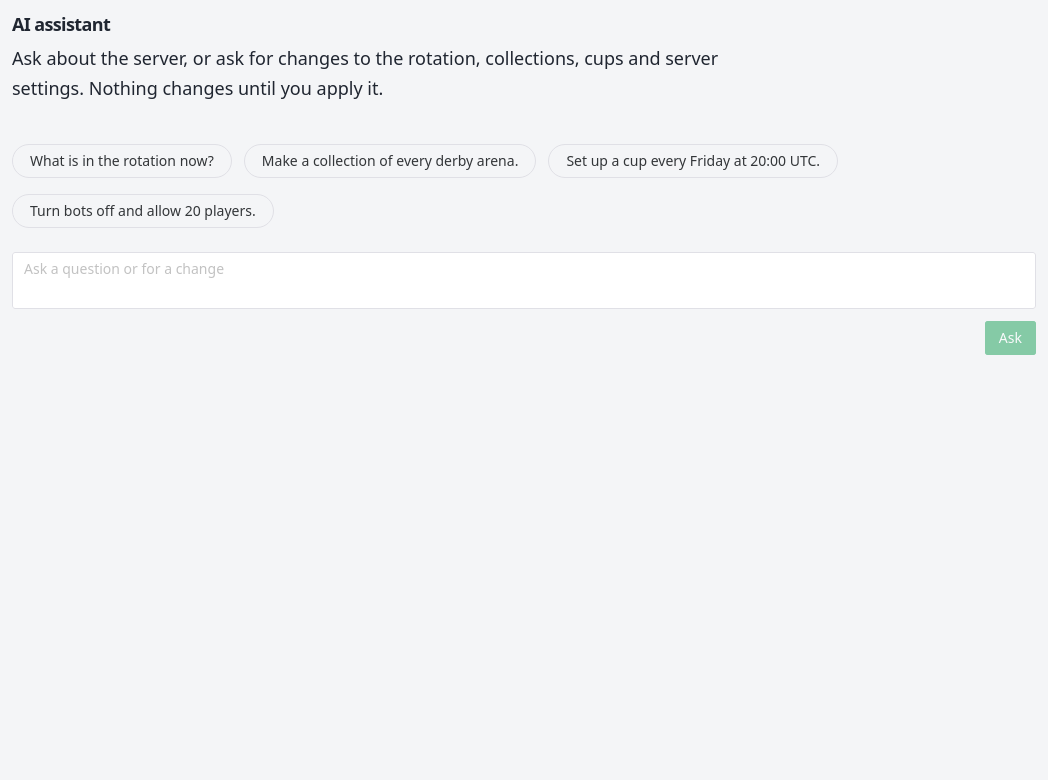
Test: AdminAssistantView › shows a proposal, and changes nothing until it is applied
Type "Ovals only, please." into the text box named "Your question" at (524, 281), box [24,252,1024,310]
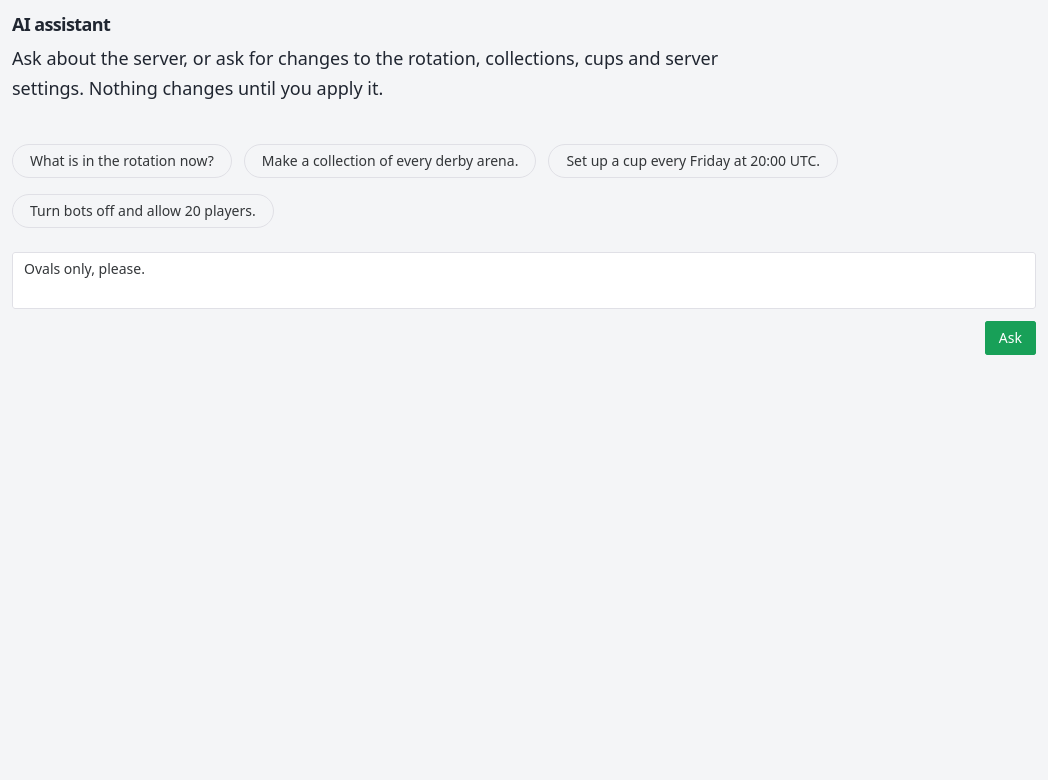
Submit the form, box [12,252,1036,356]
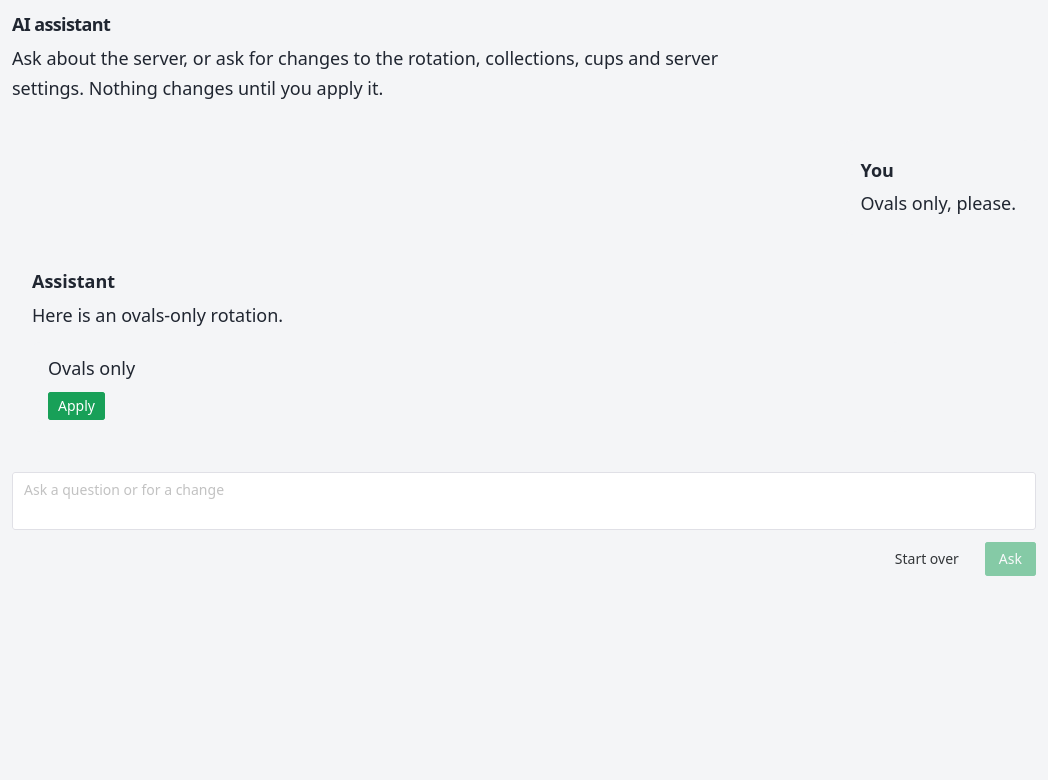
Expected: the list named "Proposed changes" shows "Ovals only", [48,356,135,380]
Click the button "Apply" at (76, 406), box [48,392,105,420]
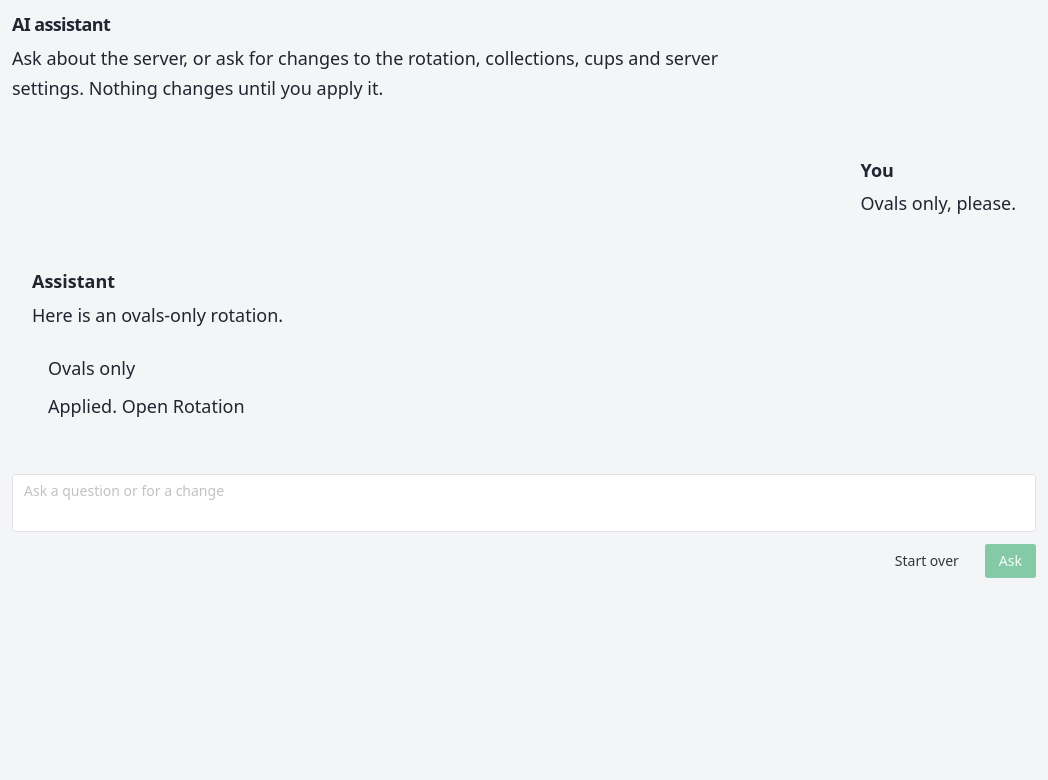
Expected: the list named "Proposed changes" shows "Applied", [48,394,112,418]
